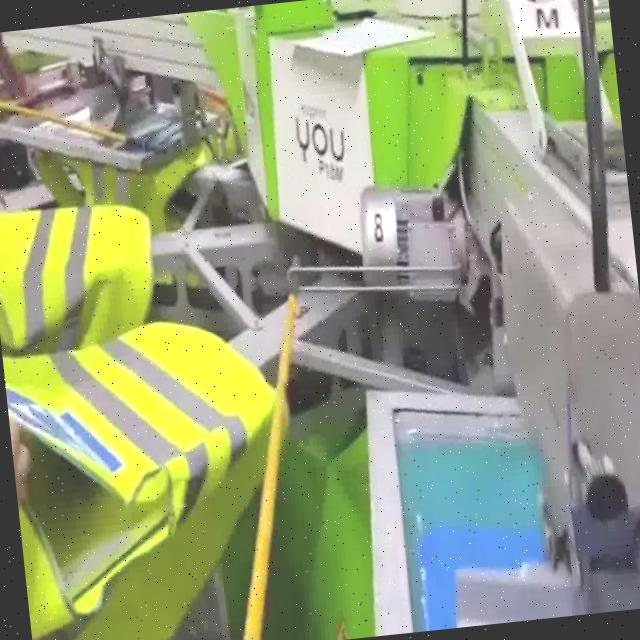vest: (1, 318, 309, 640), (0, 196, 164, 354)
